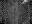person: (22, 0, 28, 5)
